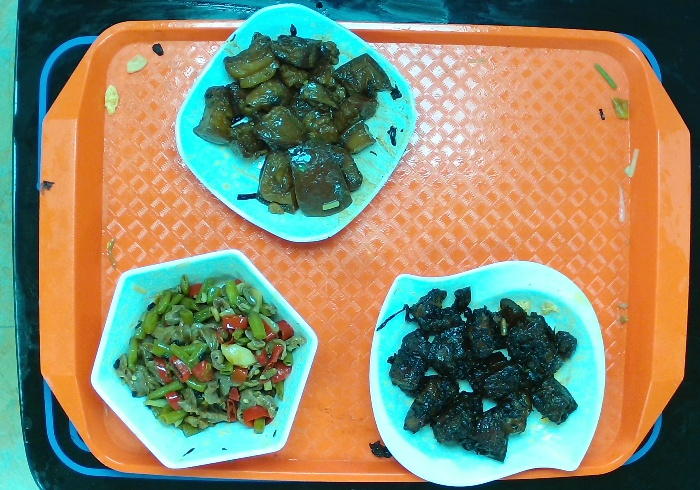RJxy-Liu_Jiao_Wan: (89, 251, 318, 476)
RJxy-Shuang_Jiao_Pan: (365, 259, 611, 484)
RJxy-Si_Fang_Wan: (174, 3, 418, 245)
